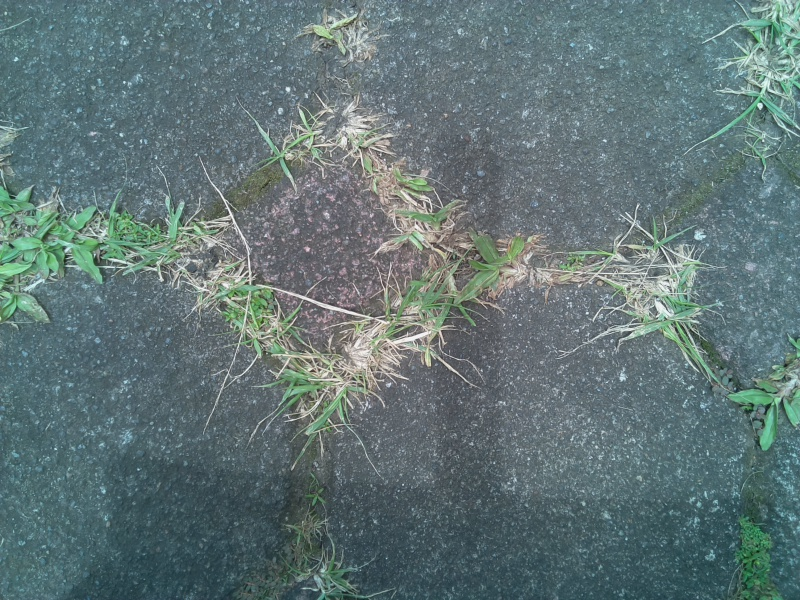Weed: (1, 169, 98, 322), (629, 240, 712, 365), (252, 350, 362, 439), (111, 200, 205, 301), (732, 5, 800, 138), (729, 339, 800, 454), (257, 86, 332, 181), (534, 237, 628, 305), (368, 199, 470, 261), (386, 266, 459, 348), (722, 507, 782, 600), (468, 234, 541, 308), (338, 92, 395, 171), (354, 150, 432, 207), (216, 273, 282, 334), (309, 8, 386, 59), (300, 548, 365, 600), (279, 512, 333, 546), (300, 483, 332, 512)
